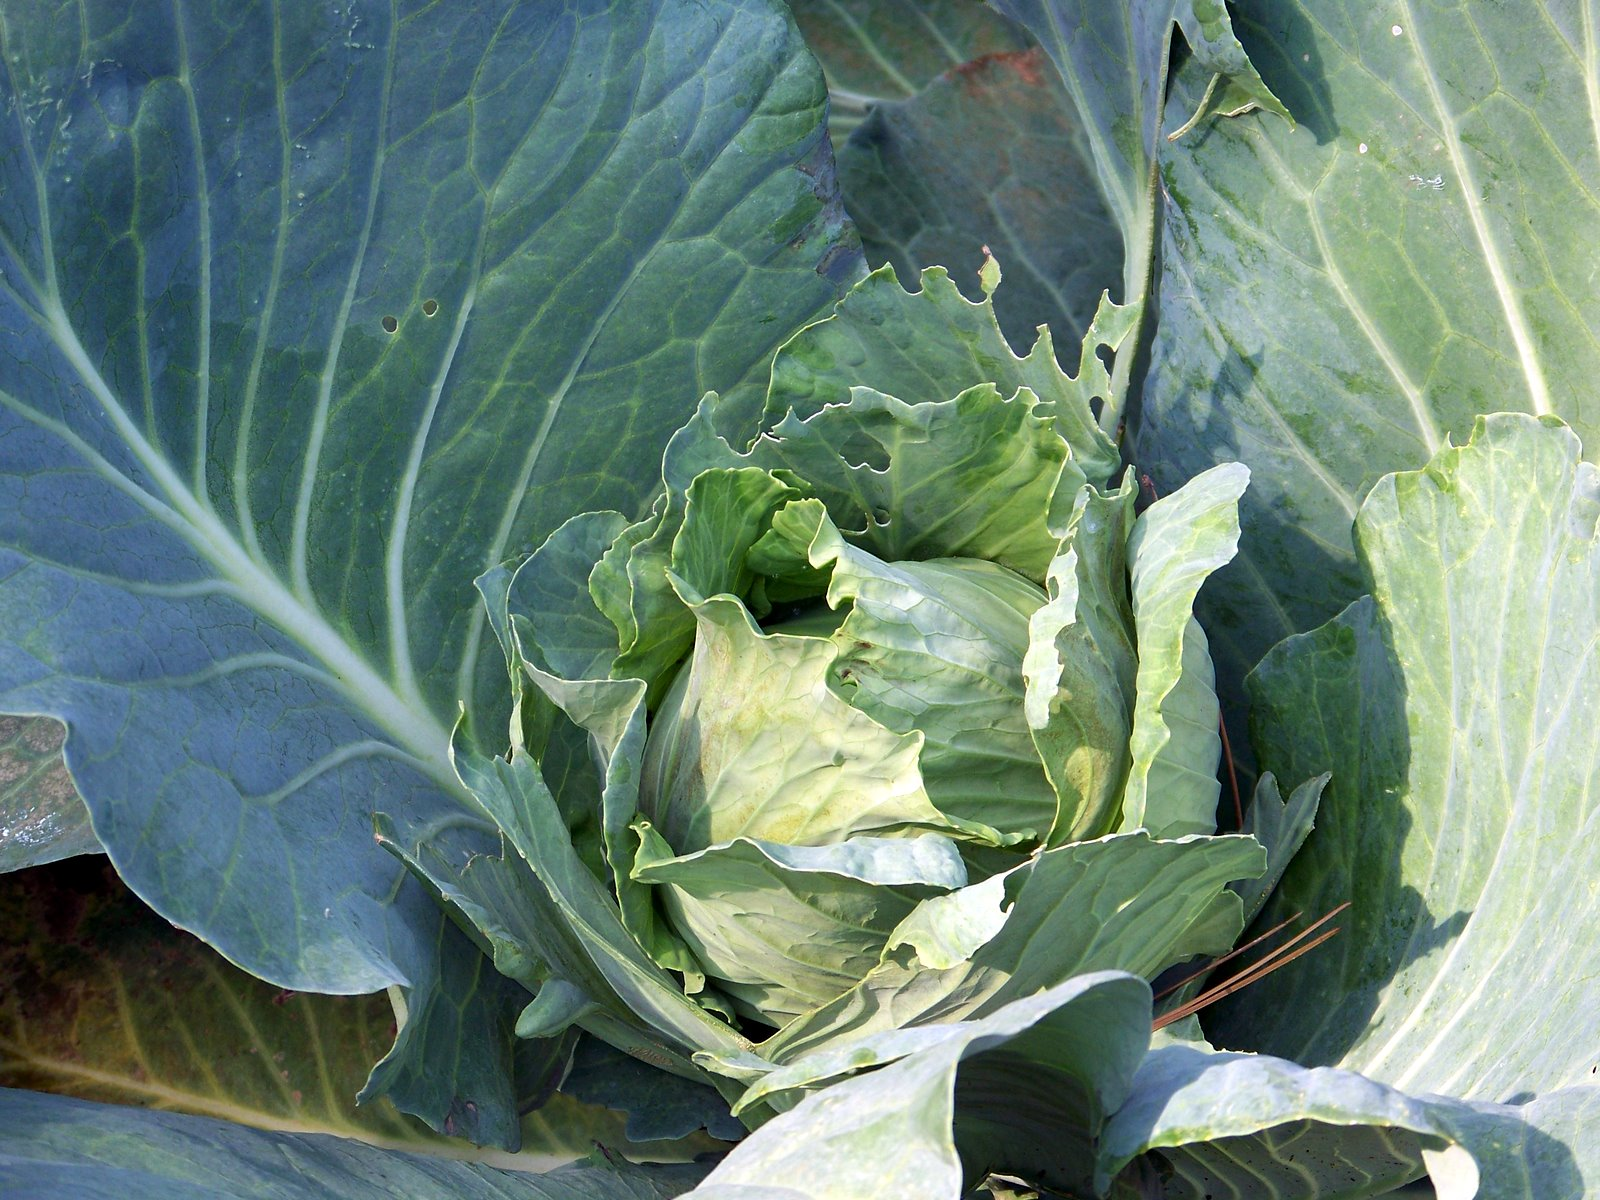cabbage: (338, 213, 1382, 1145)
